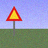sign: (6, 6, 22, 36)
